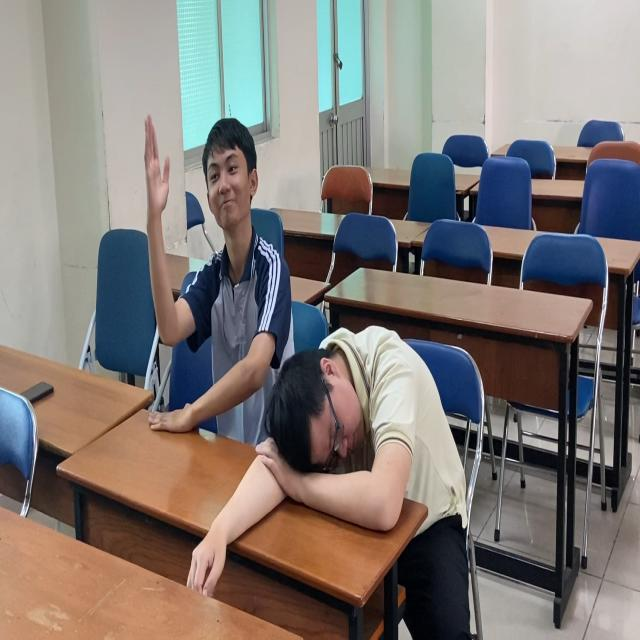raise_hand: (138, 88, 295, 437)
sleep: (258, 312, 475, 543)
